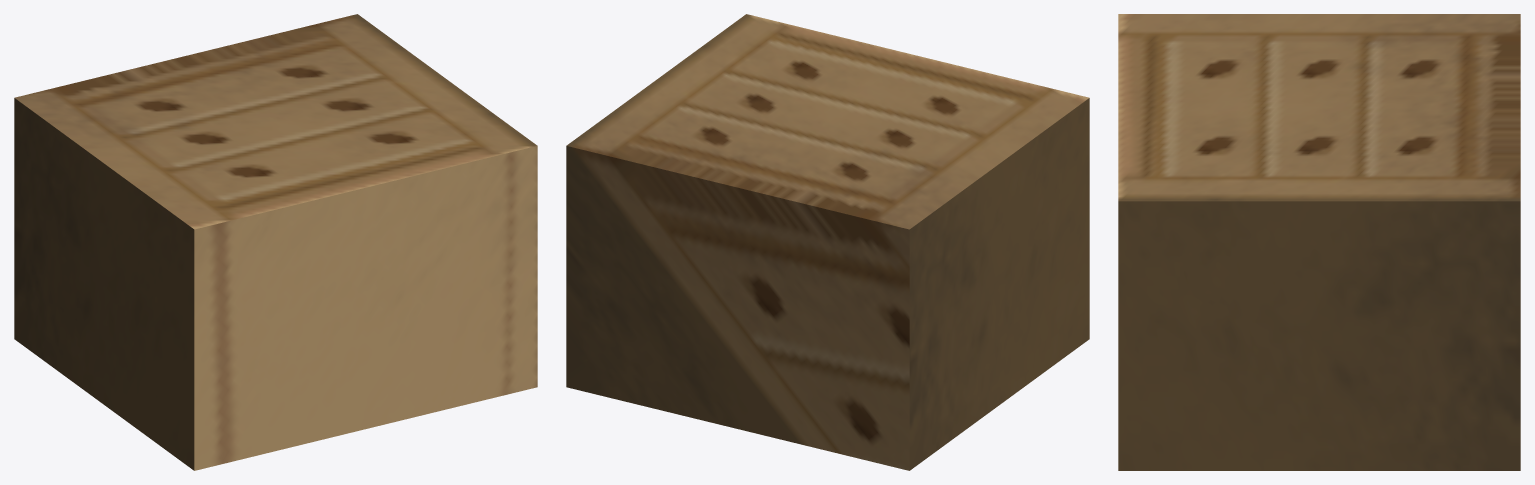
File: pz_house_drawers_lightwood.obj
3 views of the same model, side by side, from view 1: azimuth 30°, elevation 25°; view 2: azimuth 150°, elevation 25°; view 3: azimuth 270°, elevation 25° (orthographic). The views are drawn at different scales.
Visible parts, largest first — view 1: pz_house_drawers_lightwood_|_1_corpo_gavetas; view 2: pz_house_drawers_lightwood_|_1_corpo_gavetas; view 3: pz_house_drawers_lightwood_|_1_corpo_gavetas.
Part boxes in pixels (x1,y1,x2,y2): pz_house_drawers_lightwood_|_1_corpo_gavetas: (14,14,537,470); pz_house_drawers_lightwood_|_1_corpo_gavetas: (566,14,1089,470); pz_house_drawers_lightwood_|_1_corpo_gavetas: (1118,14,1520,470).
Size of the model in its own units: 0.9546 by 0.6416 by 0.8674.
Materials: 1 (1 with a texture image).
